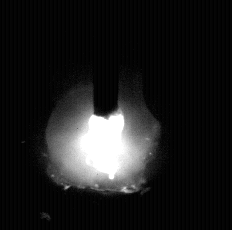arame: (94, 0, 119, 118)
poca: (48, 0, 157, 230)
